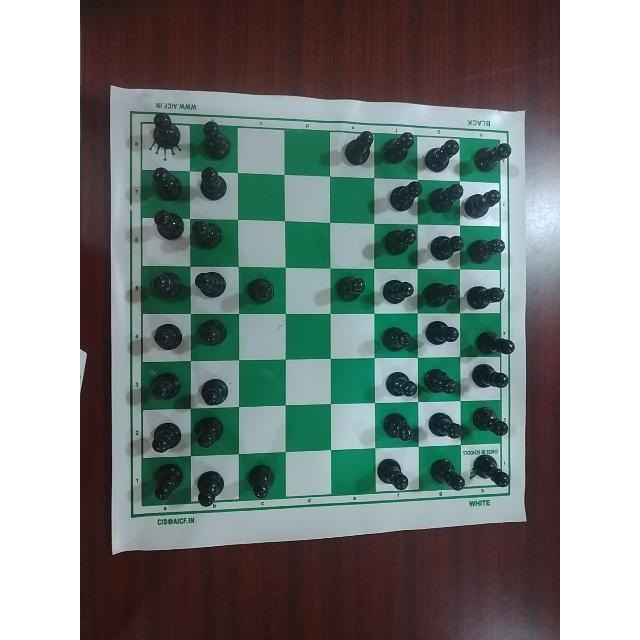black-pawn: (469, 451, 513, 489), (144, 461, 185, 501), (426, 455, 464, 497), (197, 118, 231, 163), (473, 324, 516, 359), (194, 466, 228, 509), (147, 369, 185, 407), (147, 419, 185, 457), (149, 111, 183, 153), (468, 405, 510, 439), (190, 415, 227, 453), (374, 455, 410, 494), (341, 128, 375, 169), (422, 137, 460, 173), (149, 165, 185, 203), (145, 269, 185, 303), (380, 131, 415, 169), (473, 138, 511, 173), (376, 275, 415, 309), (468, 363, 509, 395), (387, 177, 423, 213), (243, 462, 278, 499), (421, 318, 460, 351), (330, 271, 370, 303), (424, 408, 464, 440), (191, 214, 227, 249), (193, 267, 229, 302), (148, 320, 184, 355), (379, 409, 414, 445), (428, 181, 462, 217), (466, 185, 500, 221), (469, 232, 505, 266), (197, 374, 231, 410), (427, 230, 465, 262), (423, 366, 461, 398), (378, 225, 417, 256), (379, 321, 414, 355), (147, 208, 185, 239), (420, 281, 459, 311), (466, 281, 505, 311), (196, 166, 230, 200), (385, 368, 417, 402), (194, 319, 230, 349), (242, 276, 276, 306)
